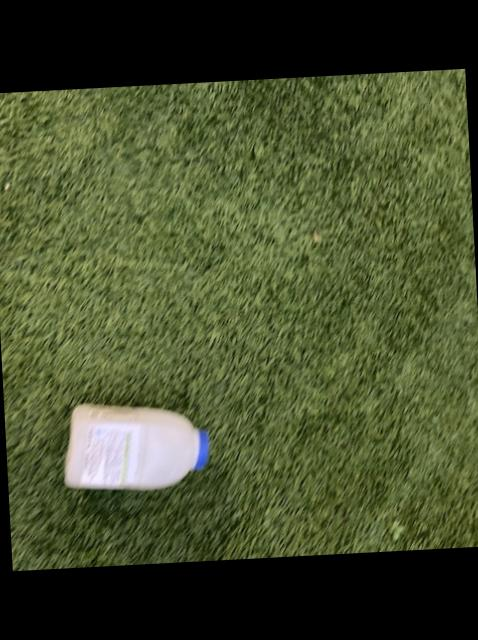plastic: (66, 404, 209, 489)
